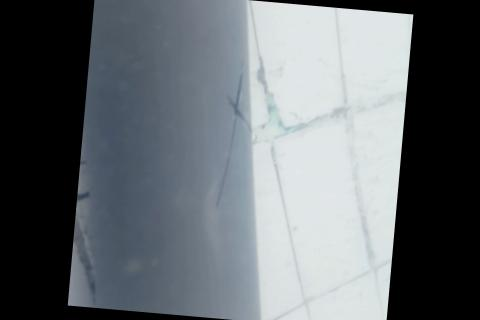keretakan: (208, 56, 257, 214)
